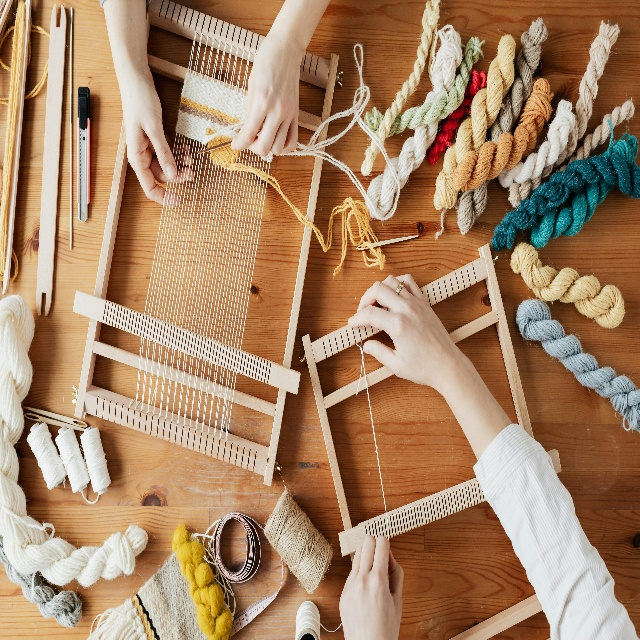Sin_guantes: (111, 0, 192, 205), (350, 259, 446, 397), (230, 22, 299, 156), (339, 535, 403, 636)
